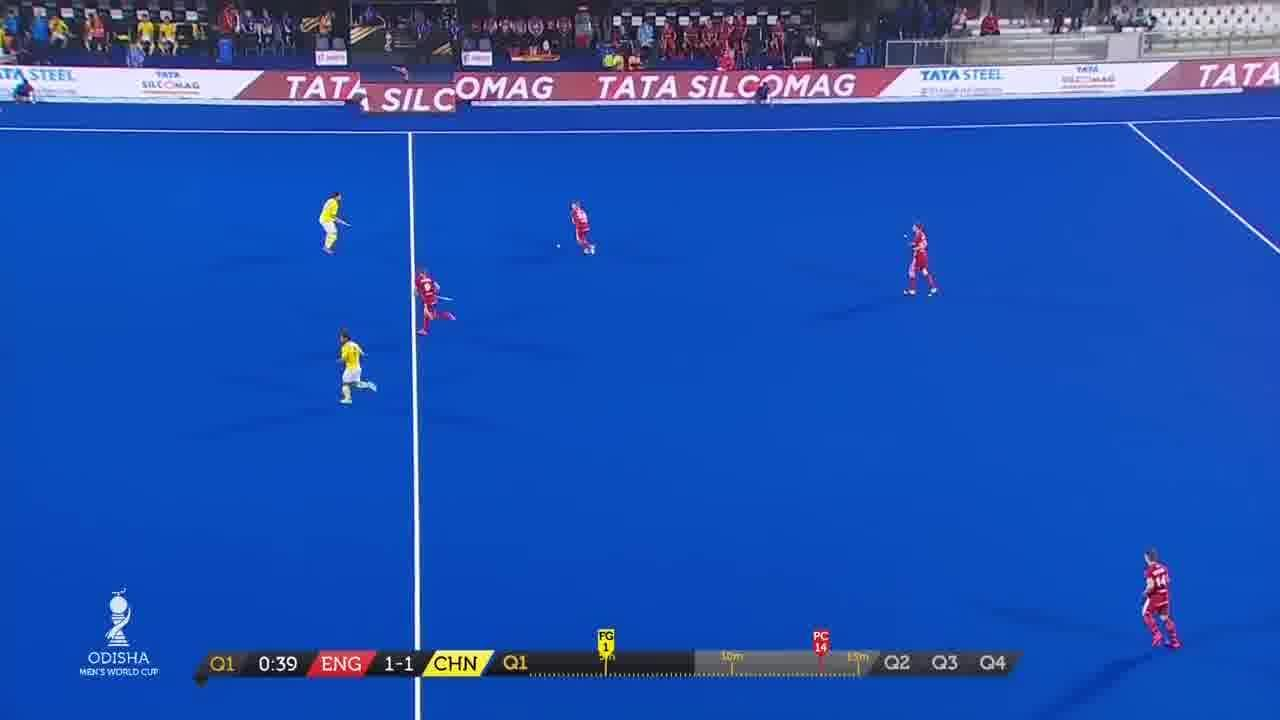ball: (554, 242, 564, 250)
